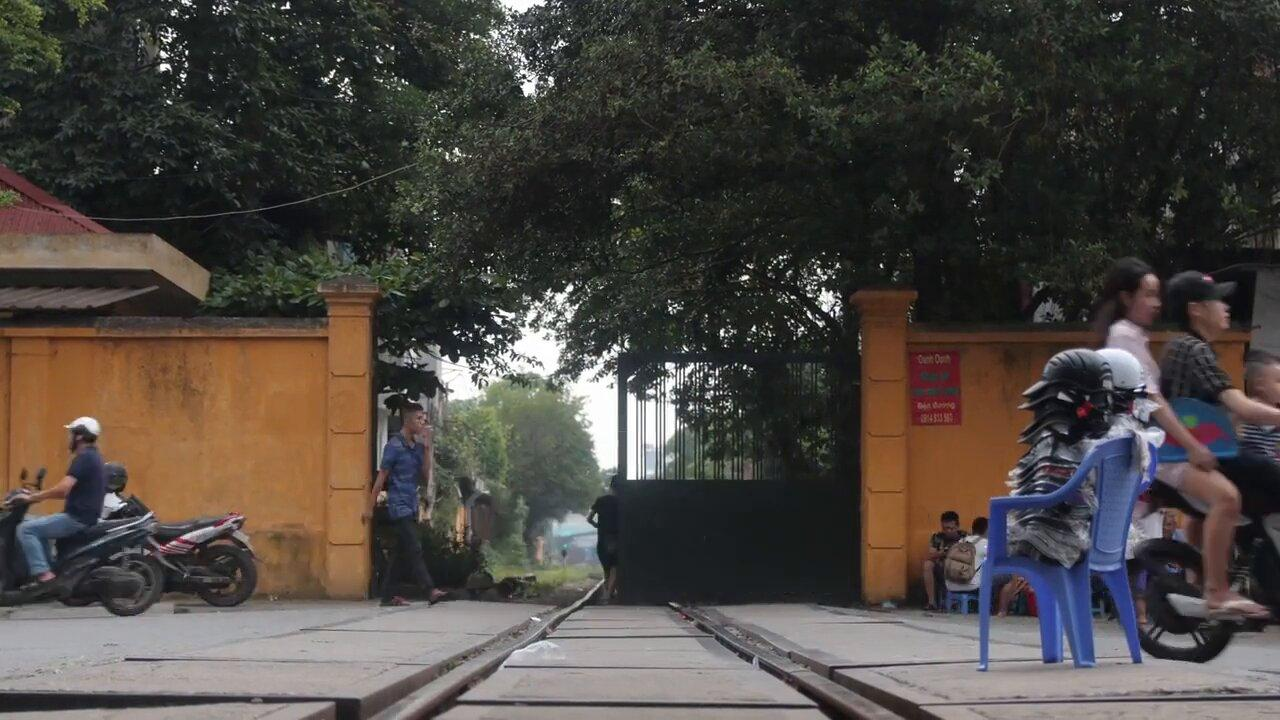driver: (0, 417, 163, 617)
helmet: (63, 417, 103, 454)
no-helmet: (1095, 257, 1162, 330), (1169, 270, 1237, 334), (399, 402, 425, 435)
